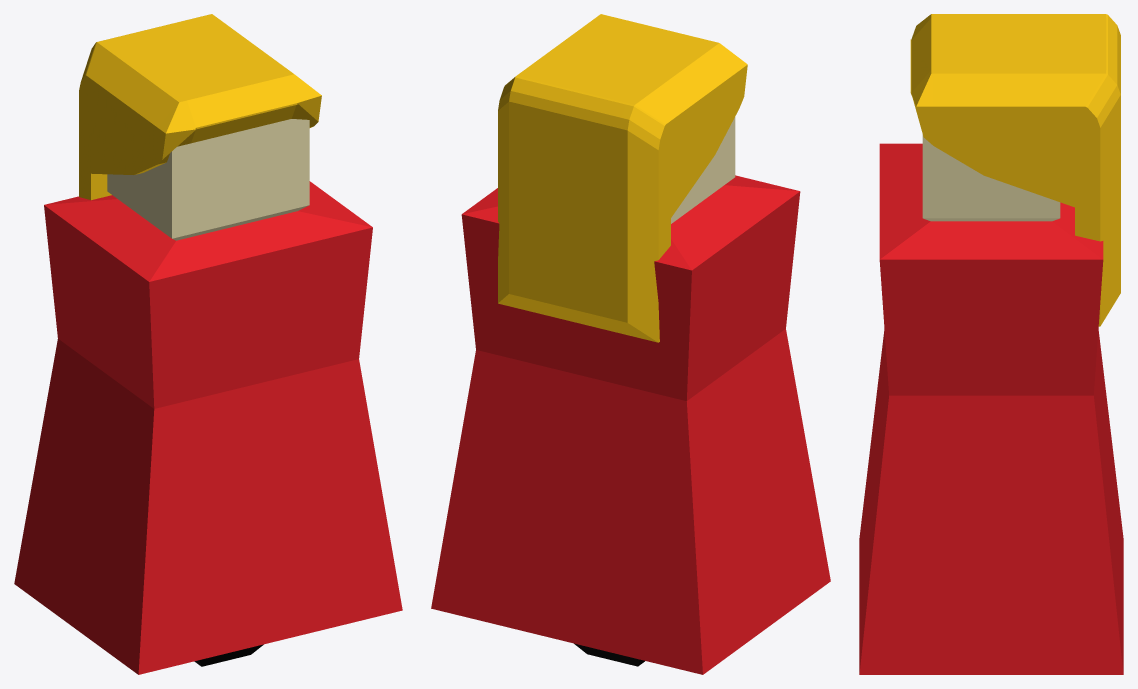
Rendered from Человек № 7.fbx.
3 views of the same model, side by side, from view 1: azimuth 30°, elevation 25°; view 2: azimuth 150°, elevation 25°; view 3: azimuth 270°, elevation 25° (orthographic). The views are drawn at different scales.
Parts seen in each view (by area): view 1: Cube; view 2: Cube; view 3: Cube.
Boxes of the visible parts, box(x1,y1,x2,y2) form: Cube: box(14, 14, 402, 674); Cube: box(431, 14, 830, 674); Cube: box(859, 14, 1123, 674).
Size of the model in its own units: 236 by 495 by 192.
